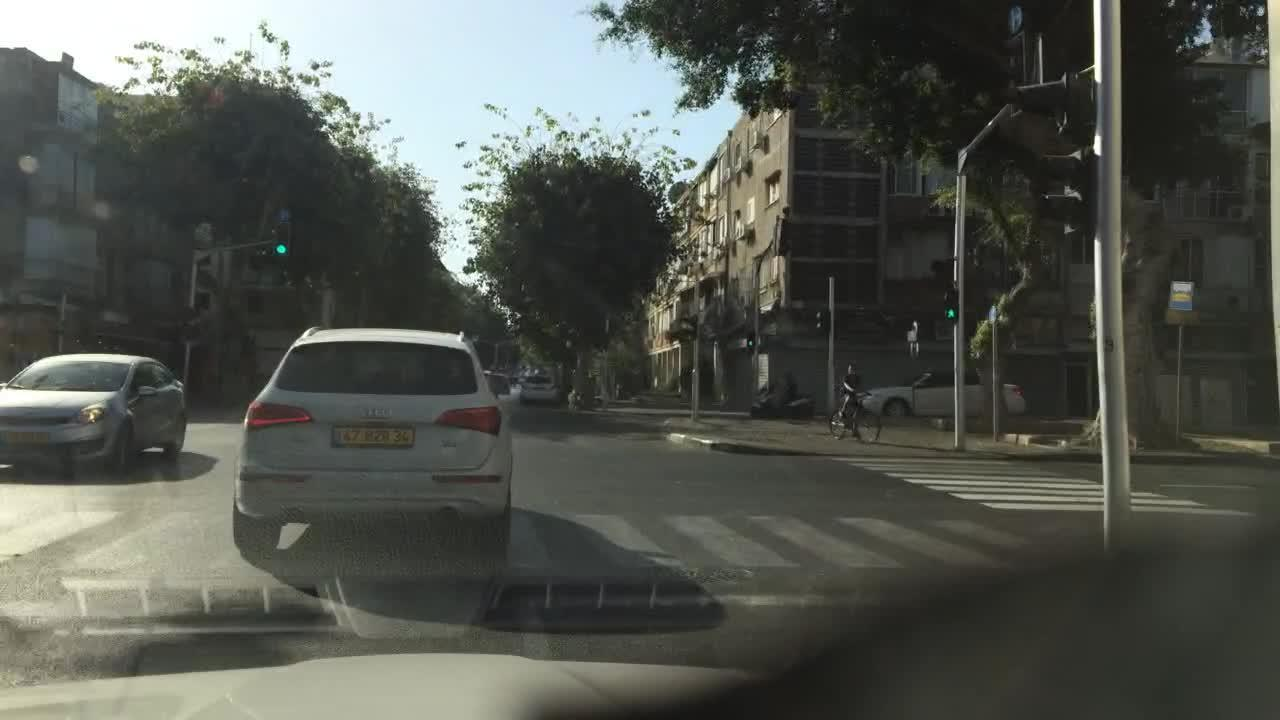Audi: (343, 398, 408, 426)
